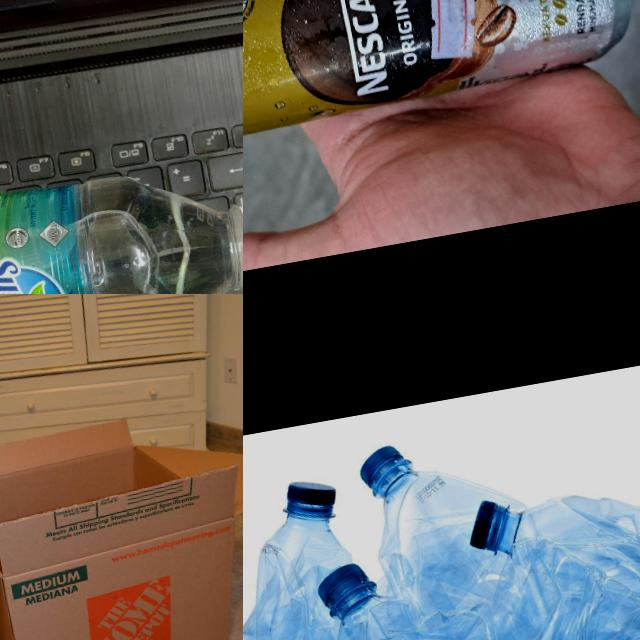garrafa plástica: (0, 147, 243, 294), (367, 451, 553, 640), (502, 467, 640, 620), (243, 499, 382, 640), (462, 525, 630, 640), (294, 578, 518, 640)
lata: (243, 0, 640, 148)
papelão: (0, 389, 243, 640)
tampa plástica: (314, 560, 369, 606), (461, 495, 504, 550), (354, 442, 405, 486), (282, 472, 338, 512)
